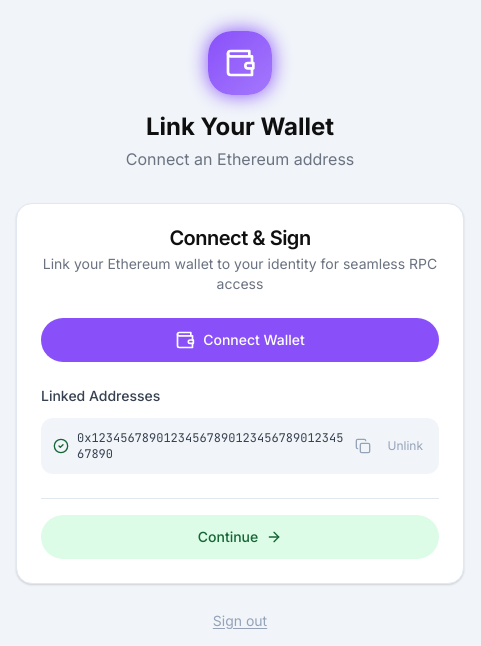
Scenario: LinkWalletPage › Unlink Address › should unlink address when unlink button is clicked
The width and height of the screenshot is (481, 646).
Click the button "Unlink".
click(405, 446)  # box [384,436,427,456]
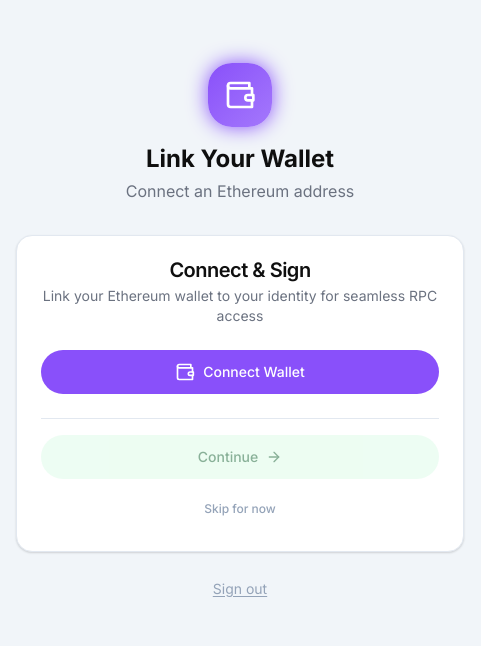
Expected: the text "0x1234567890123456789012345678901234567890" is gone
